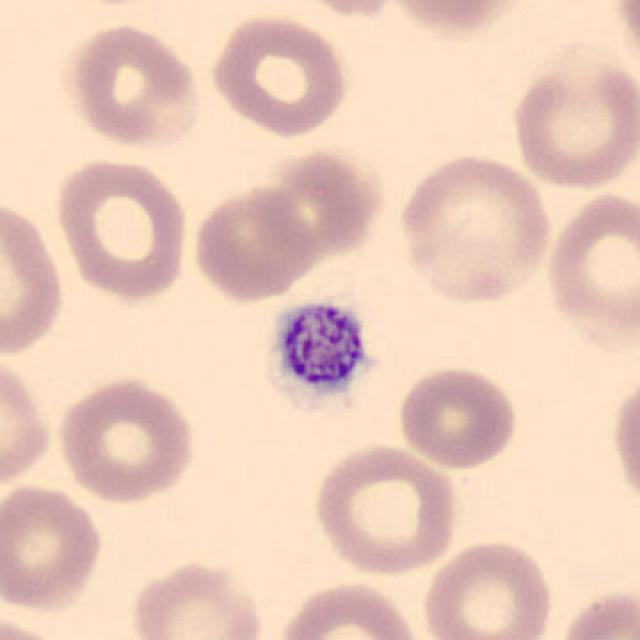Platelets: (258, 294, 378, 411)
RBC: (393, 148, 556, 309), (308, 439, 462, 578), (50, 154, 192, 304), (51, 372, 201, 508), (59, 17, 206, 152), (507, 46, 638, 194), (204, 11, 354, 139), (540, 185, 638, 356), (251, 143, 389, 261), (188, 182, 316, 305), (418, 536, 558, 640), (0, 480, 107, 616), (393, 362, 523, 472), (124, 555, 268, 640), (0, 193, 69, 361), (273, 576, 426, 640), (0, 351, 55, 497), (382, 0, 537, 41), (553, 582, 638, 640), (608, 367, 640, 515), (610, 0, 640, 79), (288, 0, 416, 18), (0, 610, 73, 640)
